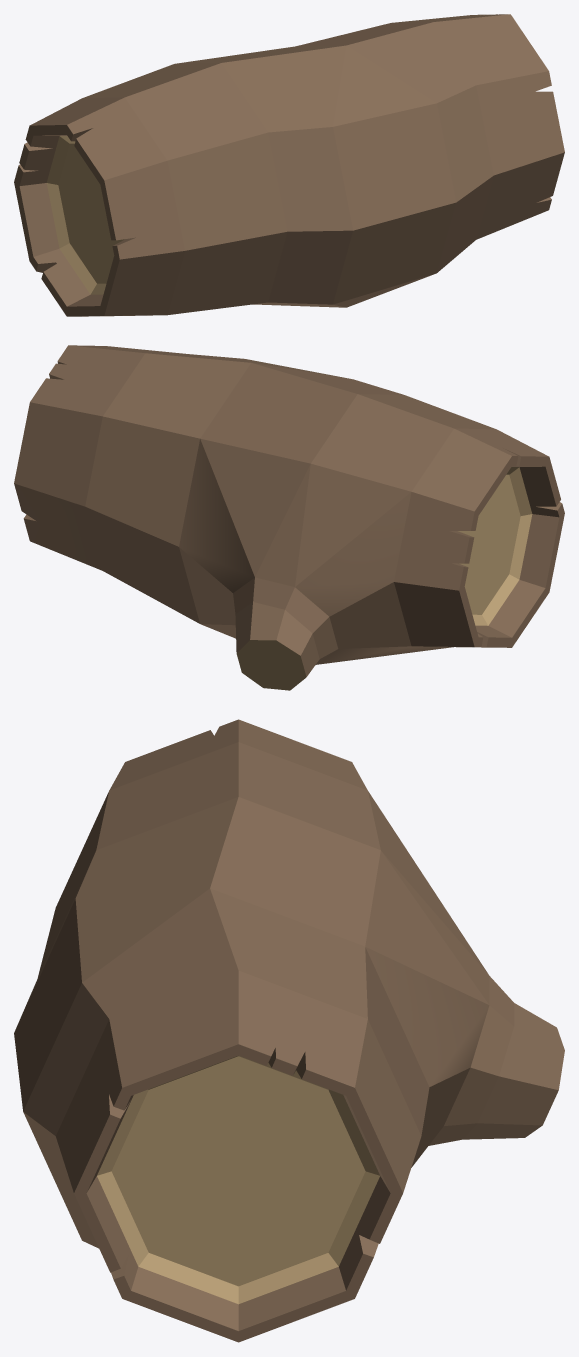
The model's file is Hilly_Prop_Camp_Sitting_Log.obj.
The picture shows the model from 3 angles, top to bottom: view 1: azimuth 30°, elevation 25°; view 2: azimuth 150°, elevation 25°; view 3: azimuth 270°, elevation 25°; orthographic projection. The views are drawn at different scales.
Parts seen in each view (by area): view 1: object1; view 2: object1; view 3: object1.
Part boxes in pixels (<box>): object1: <box>14,14,564,316</box>; object1: <box>14,345,564,690</box>; object1: <box>14,719,564,1342</box>.
Size of the model in its own units: 1.15 by 0.659 by 0.8152.
